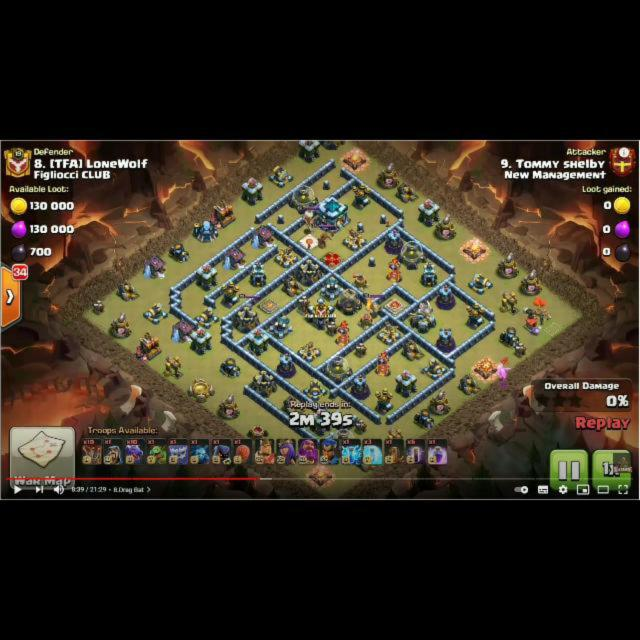AD: (351, 181, 371, 210), (373, 386, 393, 415), (220, 279, 240, 307), (464, 301, 484, 329)
AirSweeper: (350, 271, 370, 291), (357, 310, 375, 331)
BombTower: (421, 260, 437, 287), (249, 260, 265, 286)
Canon: (421, 355, 447, 379), (143, 301, 168, 324), (195, 306, 220, 329), (303, 378, 328, 401), (269, 164, 294, 187), (468, 272, 493, 294)
ClanCastle: (307, 296, 335, 329)
Eagle: (410, 299, 437, 333)
Inferno: (335, 319, 352, 345), (386, 257, 402, 282), (374, 351, 390, 376)
KingPad: (384, 297, 406, 314)
Mortar: (168, 240, 191, 262), (499, 325, 521, 348), (413, 407, 436, 429), (219, 356, 241, 378)
QueenPad: (320, 250, 344, 266)
RcPad: (260, 297, 278, 312)
Scattershot: (268, 313, 293, 341), (319, 275, 344, 302)
TH13: (315, 194, 347, 233)
WardenPad: (299, 233, 320, 249)
WizzTower: (436, 283, 456, 309), (436, 326, 456, 352), (276, 351, 296, 377), (350, 373, 370, 399), (385, 228, 404, 254)
Xbow: (377, 320, 402, 345), (342, 226, 367, 250), (274, 243, 298, 267), (297, 340, 322, 362)
